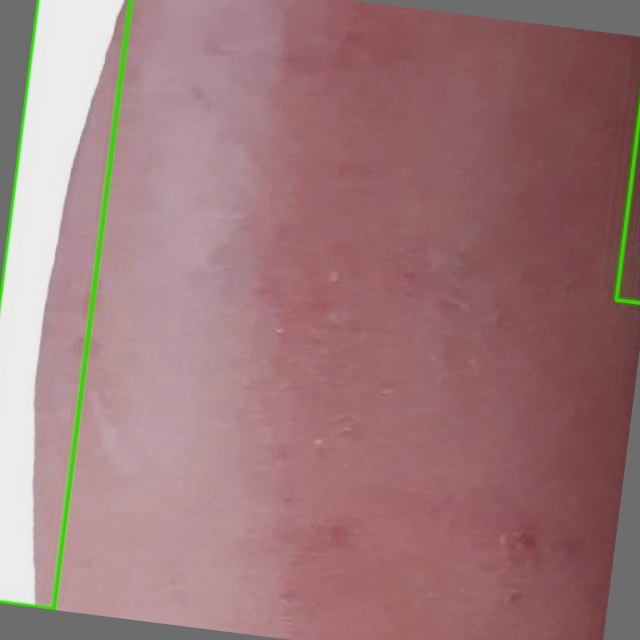Contact Dermatitis: (0, 0, 130, 609)
